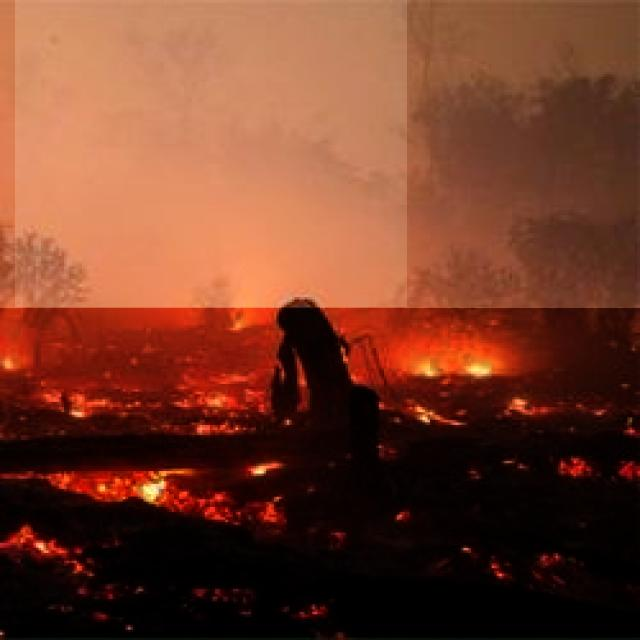Fire: (0, 308, 640, 640)
Smoke: (15, 0, 407, 307)
